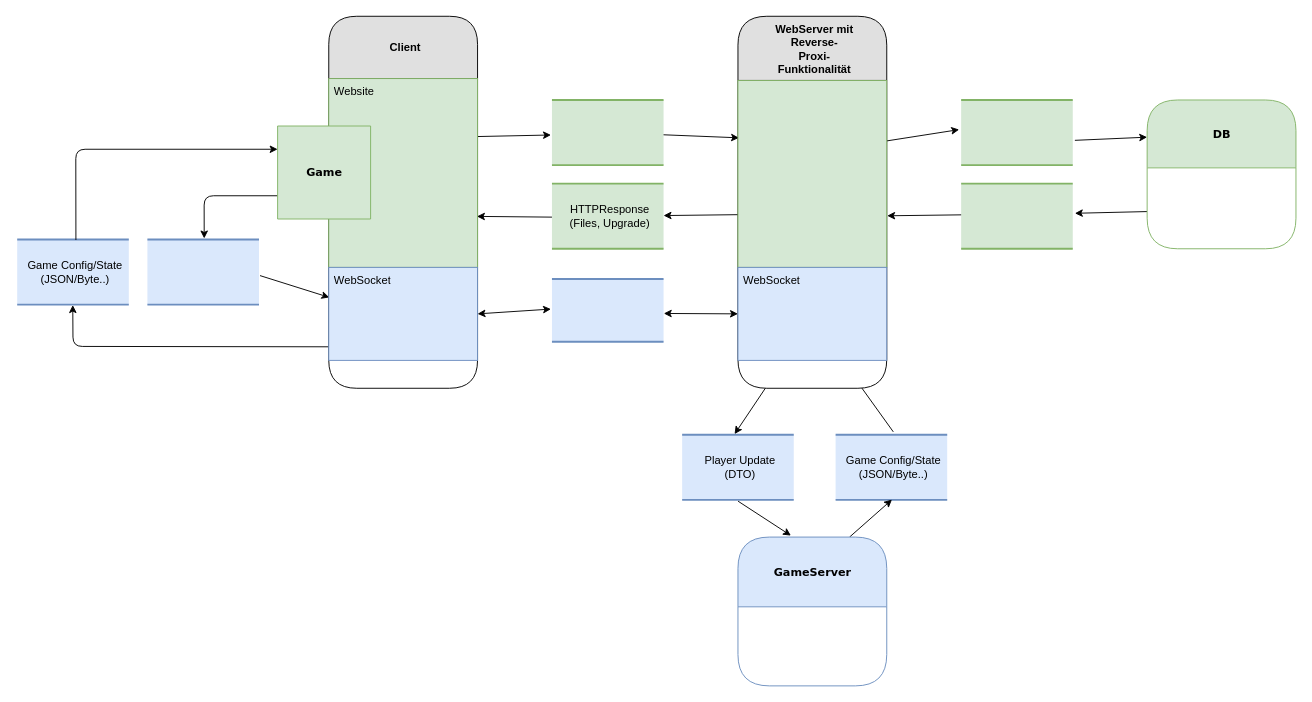
This 1312x702 diagram has some shape labels left out. Here are the shapes that lost their labels. From the top down, the centre of each, then its label:
point 607,132: HTTPRequest (Files, Upgrade)
point 1016,132: SLQ-Request (User, Auth, Scores...)
point 812,173: HTTPServer
point 1016,215: SQL-Response (User, Auth, Scores...)
point 202,271: Player Update (JSON/Byte..)
point 607,310: WebSocket-Frame
